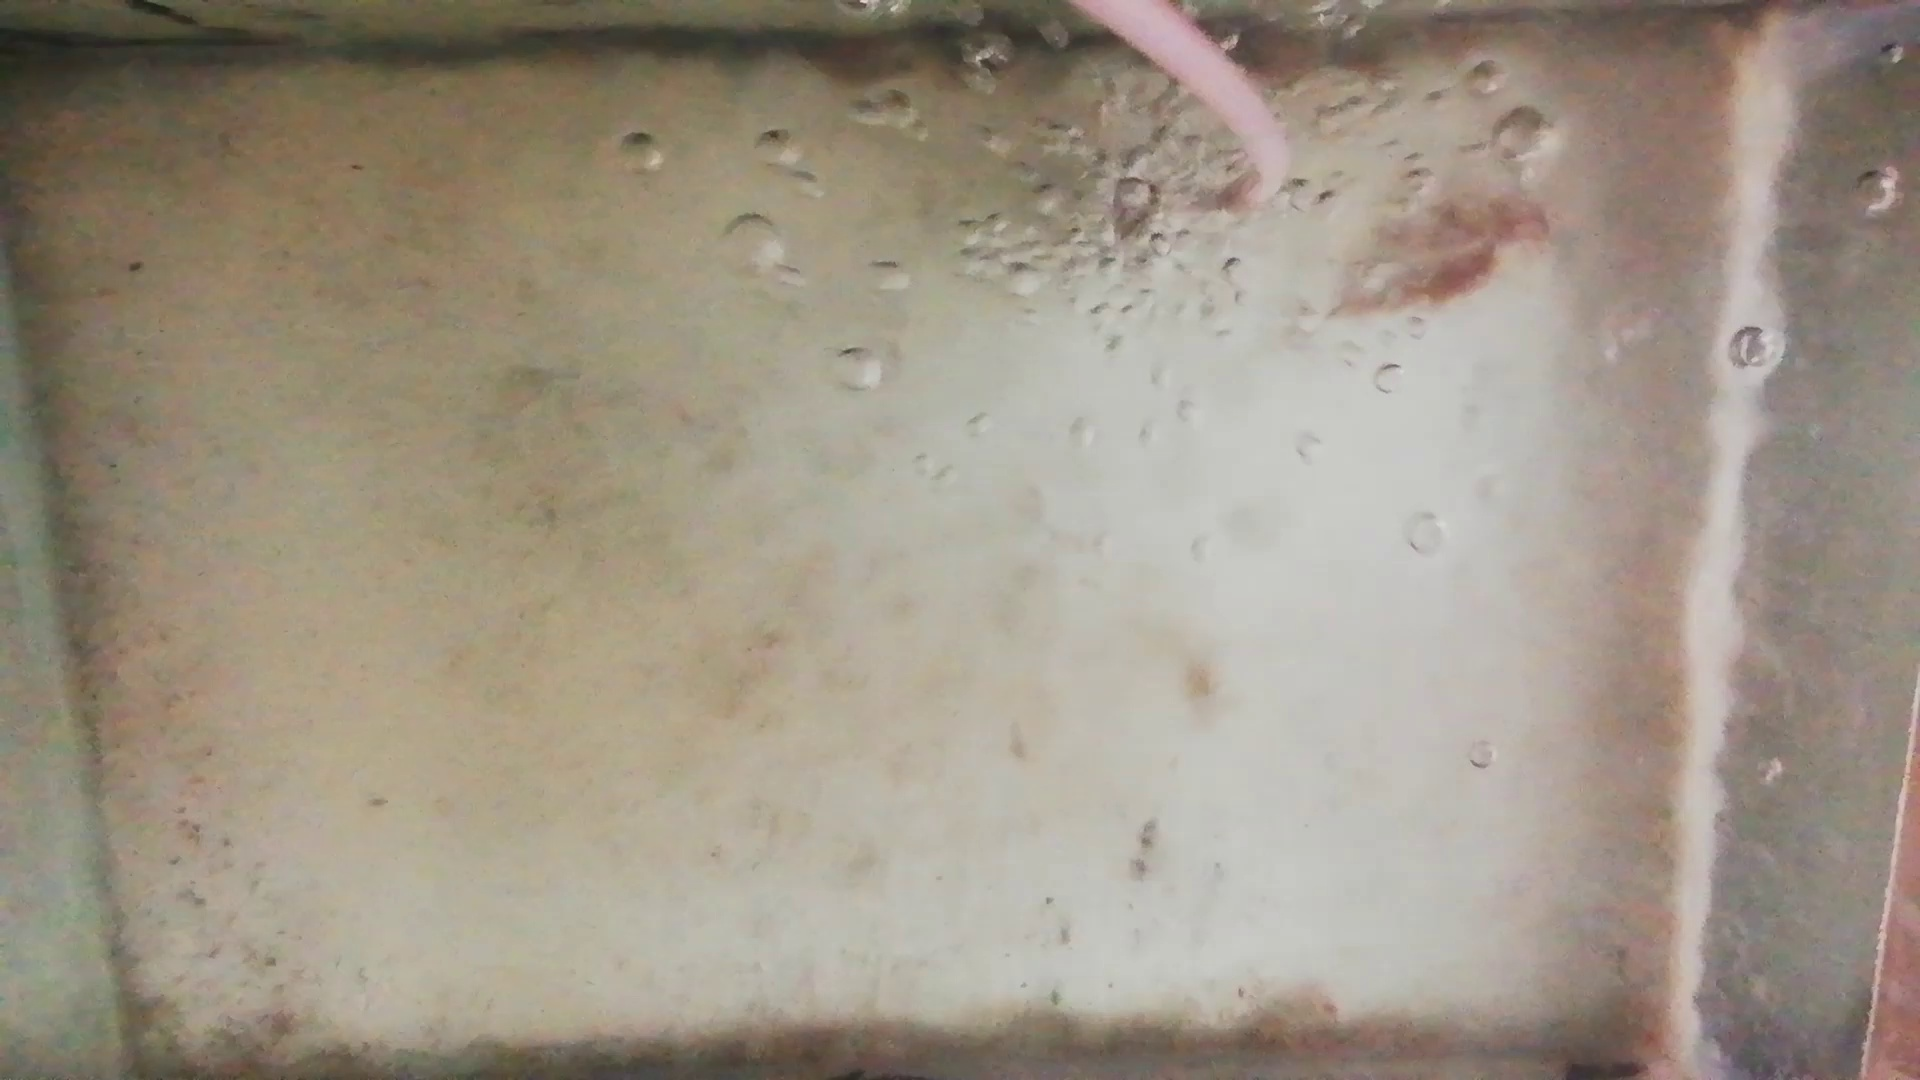fish: (1331, 251, 1507, 316), (1370, 204, 1556, 244)
